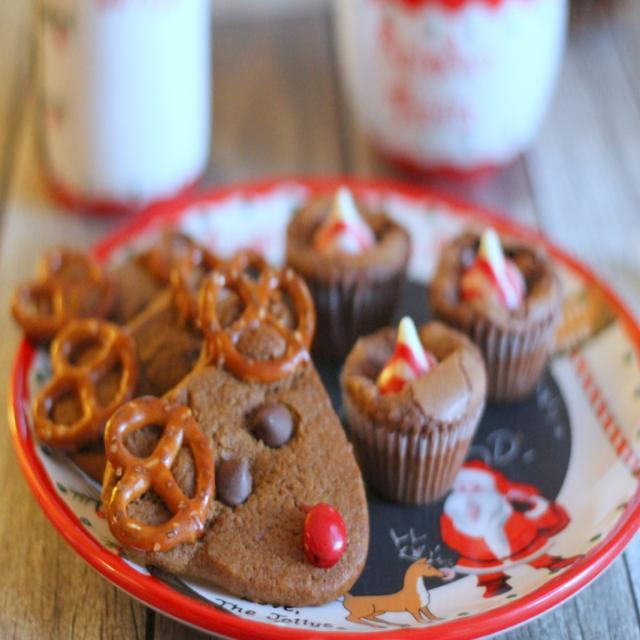Salatini: (106, 390, 215, 552), (202, 245, 316, 382), (33, 317, 139, 455), (9, 245, 119, 343)
